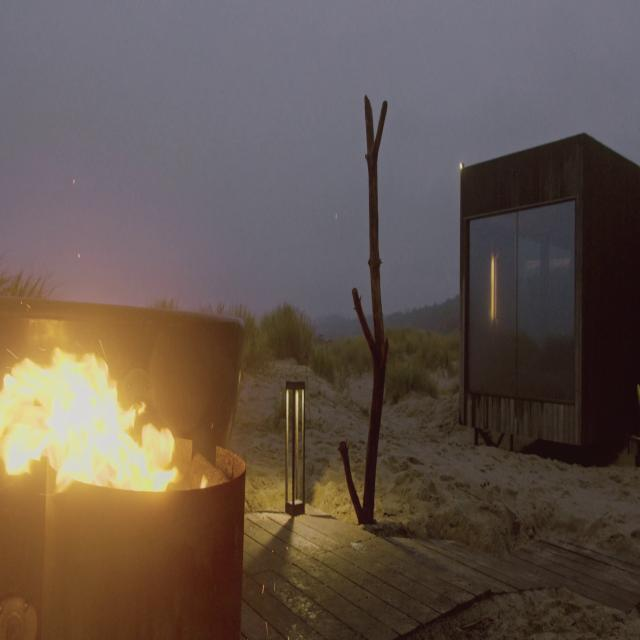Fire: (0, 327, 183, 495)
